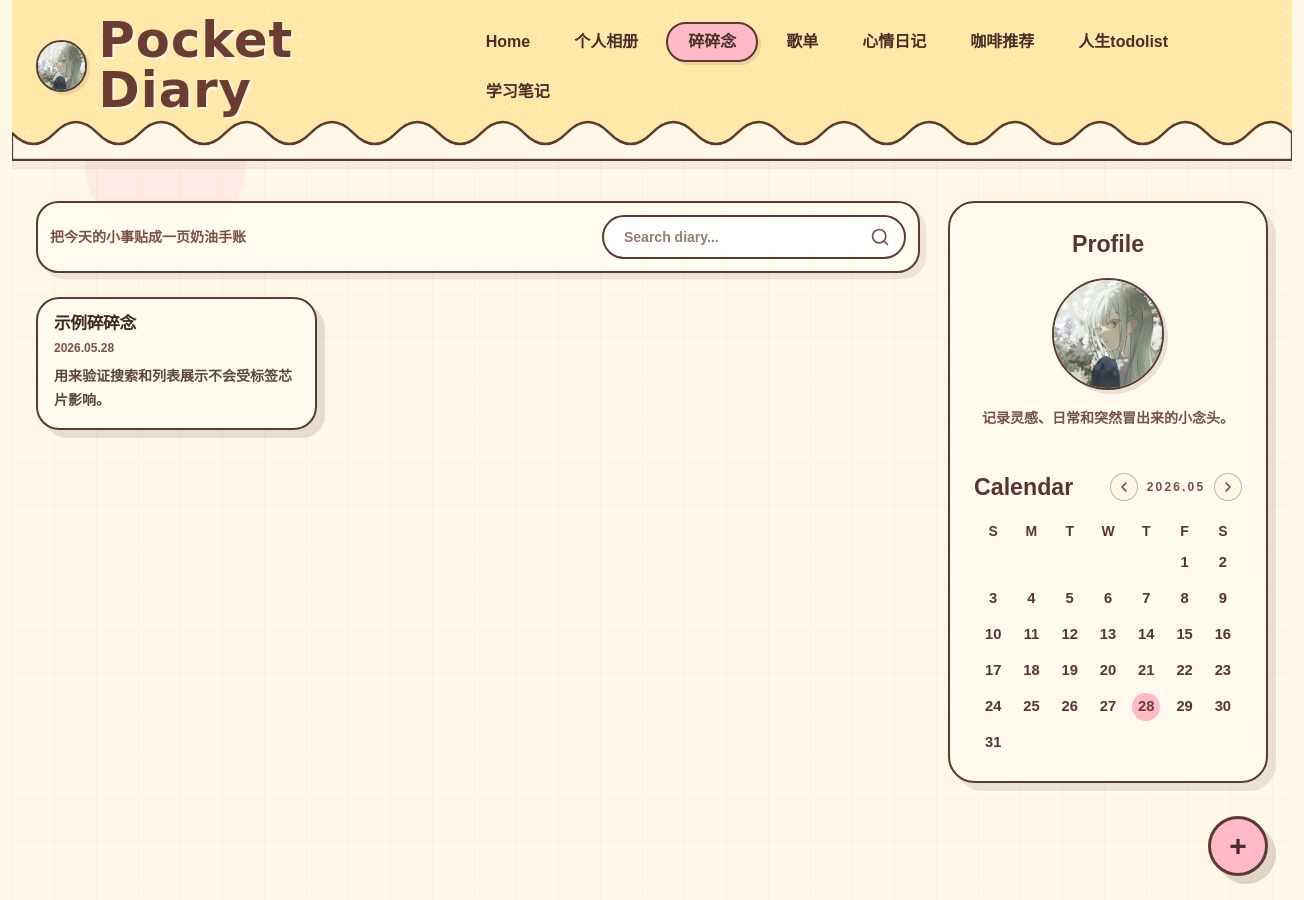
Scenario: ThoughtsPageView › keeps the search empty state separate from the mokugyo notice
Type "没有这条碎碎念" into the search field named "搜索碎碎念" at (754, 237), box [602,215,906,259]
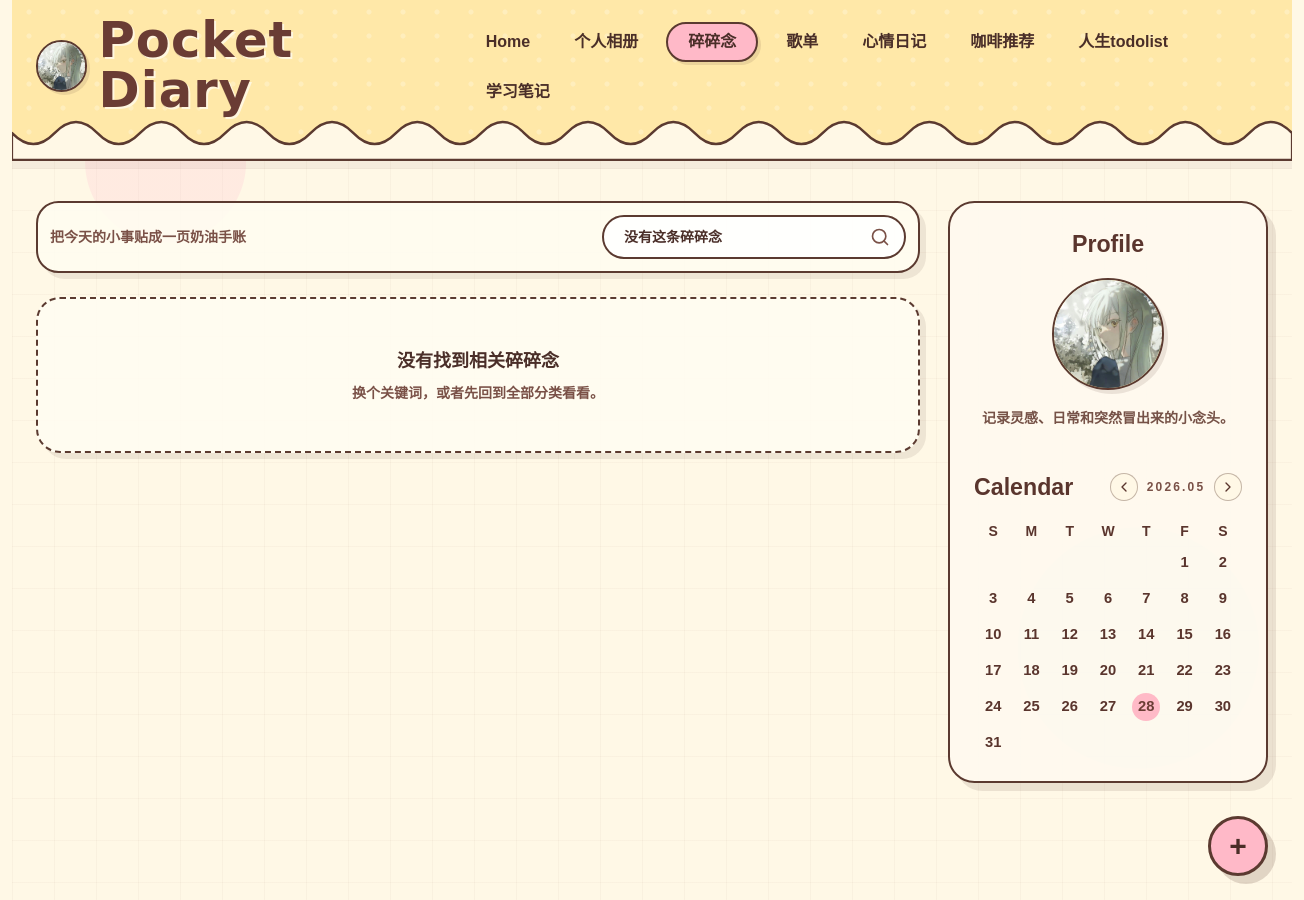
Expected: the text "没有找到相关碎碎念" is shown, [397,351,559,371]
